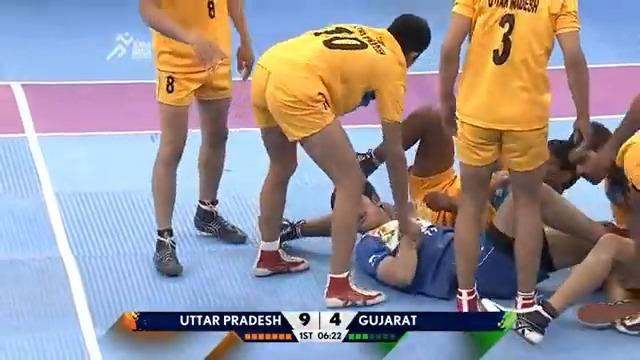Player: (280, 106, 629, 310), (249, 12, 432, 308), (437, 0, 591, 315), (137, 0, 254, 276), (509, 129, 639, 345)
referee: (567, 91, 639, 230), (543, 120, 613, 194)
